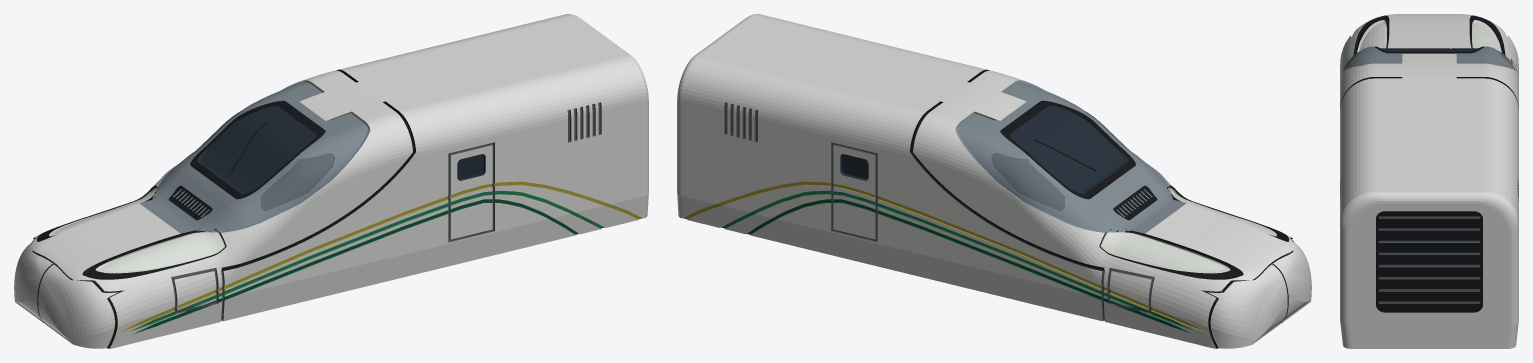
File: haramain.glb
3 views of the same model, side by side, from view 1: azimuth 30°, elevation 25°; view 2: azimuth 150°, elevation 25°; view 3: azimuth 270°, elevation 25° (orthographic).
Visible parts, largest first — view 1: hhr_haramain; view 2: hhr_haramain; view 3: hhr_haramain.
Boxes of the visible parts, box(x1,y1,x2,y2) form: hhr_haramain: box(14, 14, 648, 348); hhr_haramain: box(677, 14, 1311, 348); hhr_haramain: box(1340, 14, 1518, 348).
Size of the model in its own units: 149 by 38 by 40.
